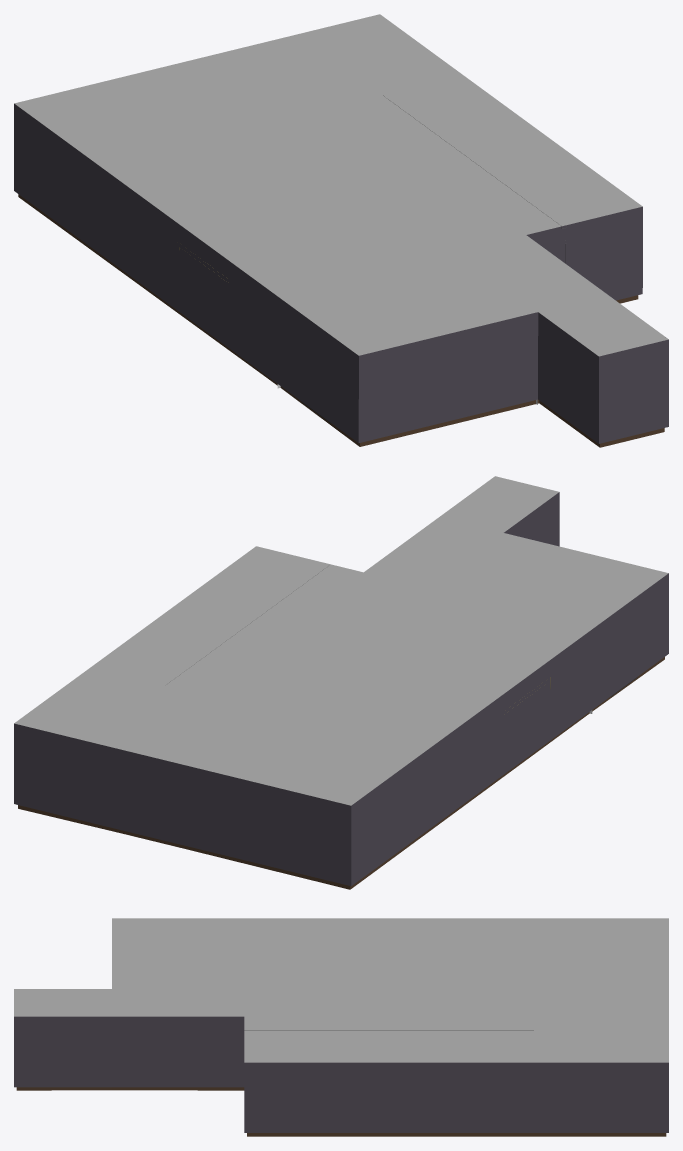
File: bank.fbx
3 renders of one model, top to bottom at view 1: azimuth 30°, elevation 25°; view 2: azimuth 150°, elevation 25°; view 3: azimuth 270°, elevation 25°, orthographic. The views are drawn at different scales.
Parts seen in each view (by area): view 1: building; view 2: building; view 3: building.
Boxes of the visible parts, x1=… form: building: x1=14, y1=14, x2=668, y2=447; building: x1=14, y1=476, x2=668, y2=889; building: x1=14, y1=918, x2=668, y2=1136.
Size of the model in its own units: 2058 by 503 by 3950.
